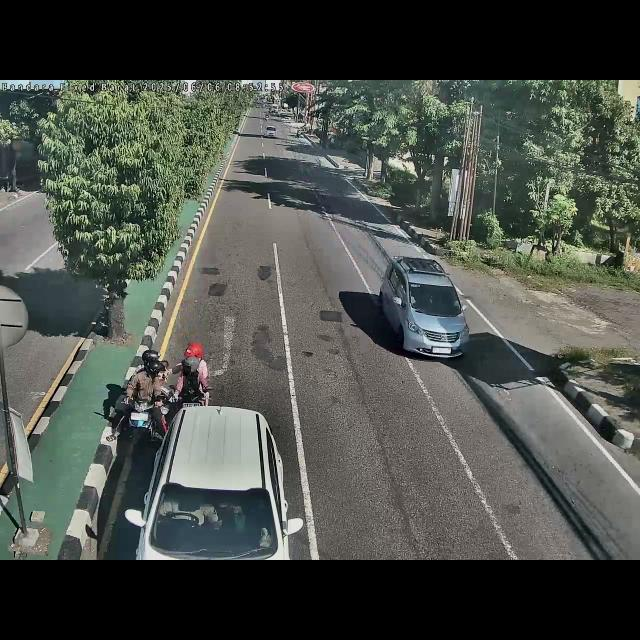Mobil: (130, 404, 304, 560), (370, 258, 474, 368)
Motor: (115, 346, 168, 446), (163, 342, 213, 416)
